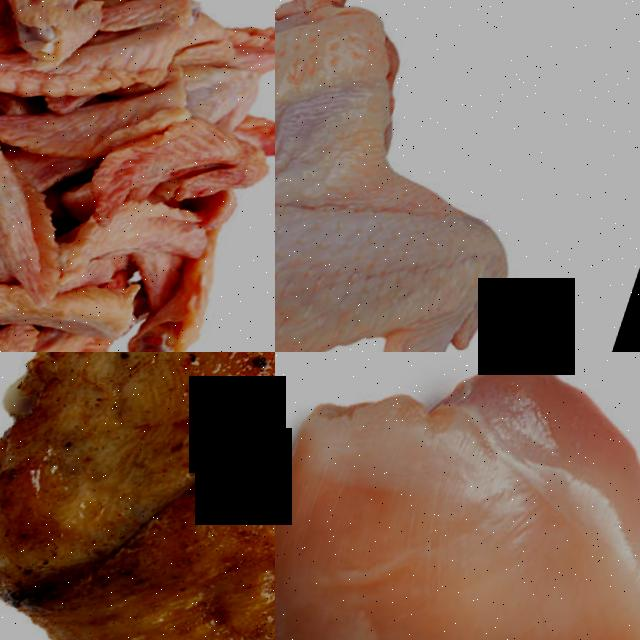chicken breast: (275, 352, 640, 640)
chicken thigh: (0, 352, 275, 640)
chicken wing: (275, 0, 622, 352)
